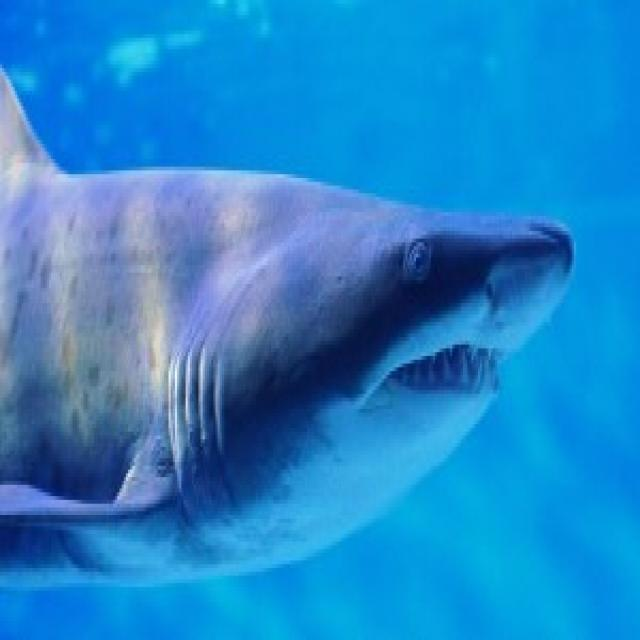Shark: (0, 53, 586, 592)
